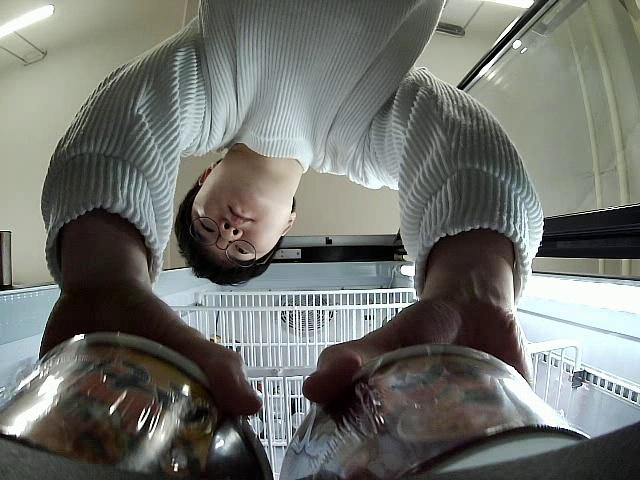00_hand: (39, 289, 263, 417), (302, 299, 535, 409)
05_nuguri_L: (279, 345, 591, 480), (0, 333, 275, 480)
